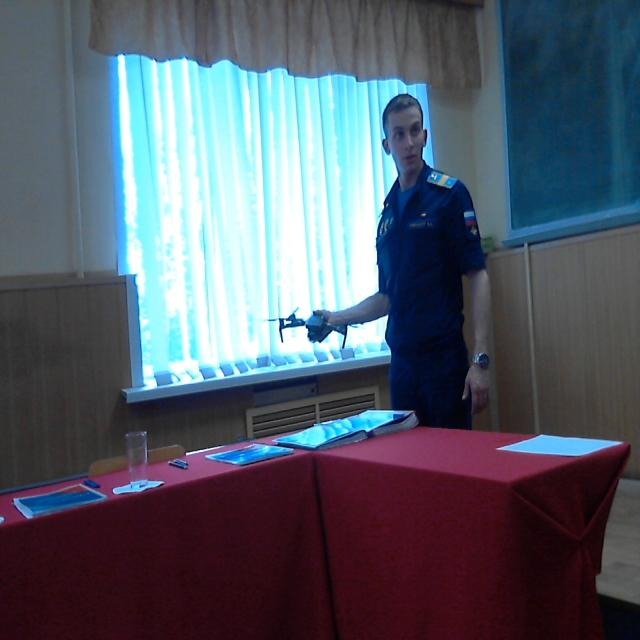drone: (264, 282, 360, 354)
